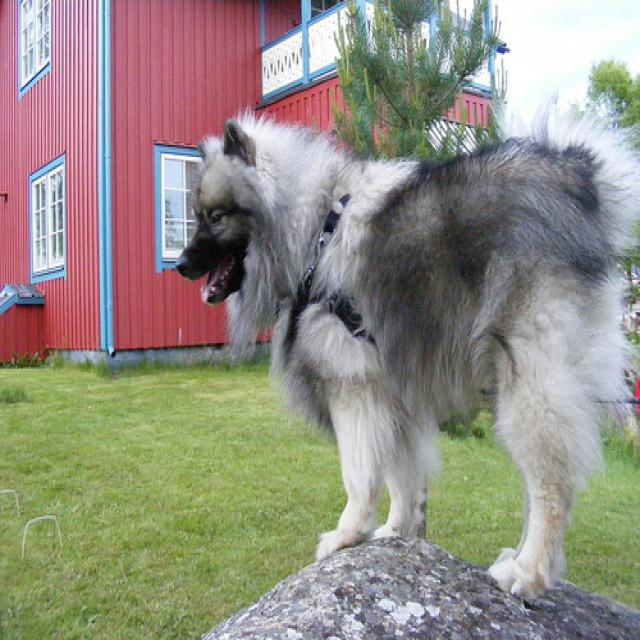dog-keeshond: (165, 106, 637, 620)
